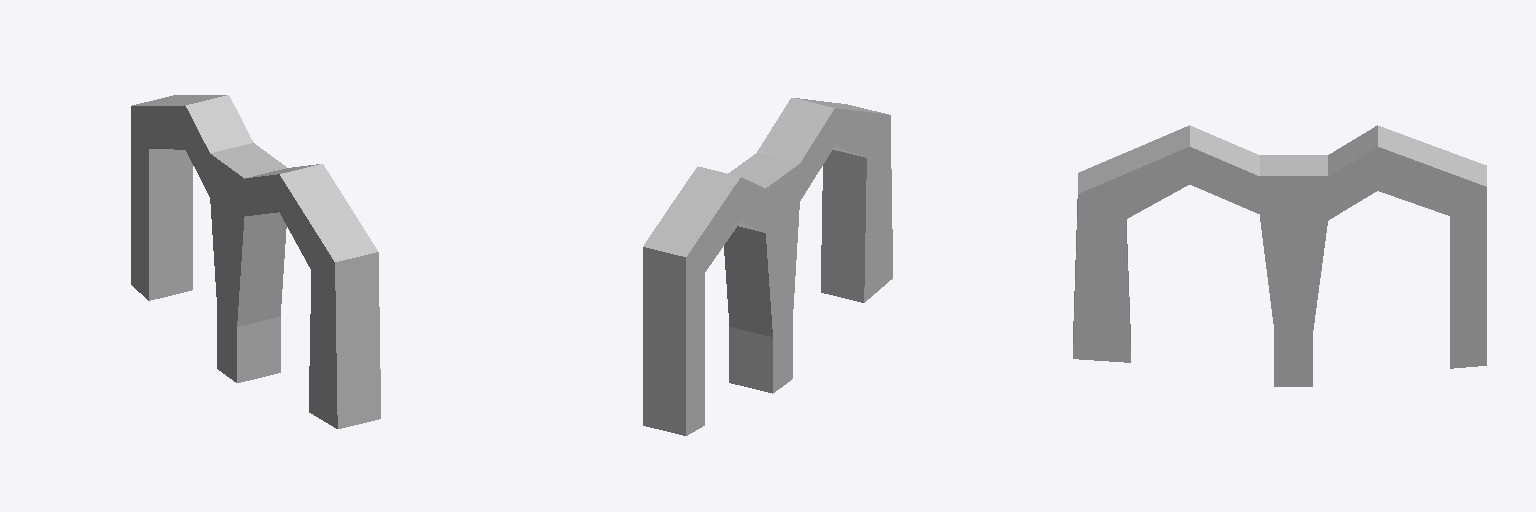
Rendered from Arch2.obj.
The picture shows the model from 3 angles: view 1: azimuth 30°, elevation 25°; view 2: azimuth 150°, elevation 25°; view 3: azimuth 270°, elevation 25°; orthographic projection.
Visible parts, largest first — view 1: Arch2; view 2: Arch2; view 3: Arch2.
Part boxes in pixels (left/top/right/bottom): Arch2: left=131, top=95, right=380, bottom=428; Arch2: left=643, top=98, right=892, bottom=435; Arch2: left=1073, top=125, right=1486, bottom=386.
Bounding box in the file's own units: 0.8088 × 4.26 × 6.66.